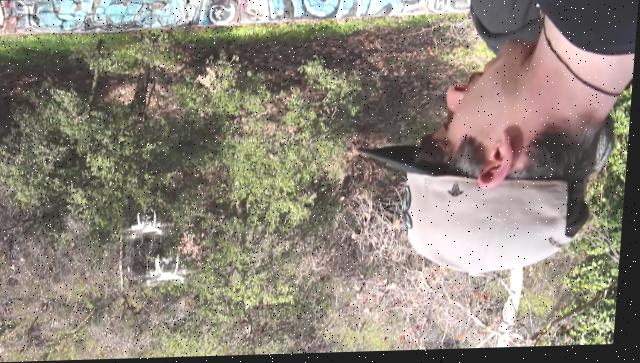drone: (147, 253, 197, 290), (128, 213, 171, 242)
